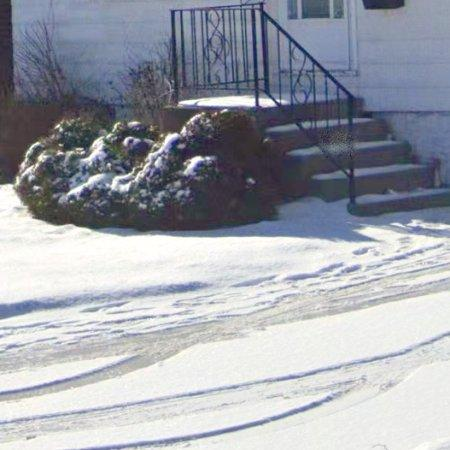stairs: (165, 4, 450, 216)
